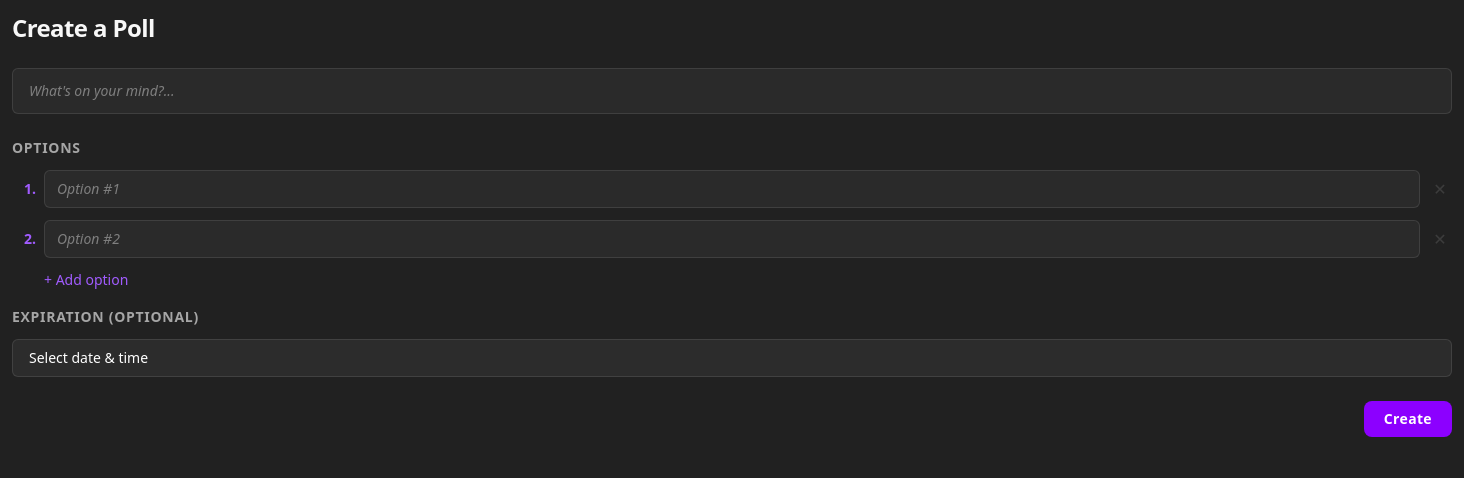
Test: CreatePollPage › displays validation messages inline on API 400 error
The image size is (1464, 478).
In the field named "poll question": (732, 91) [12,68,1452,114], type "Q"
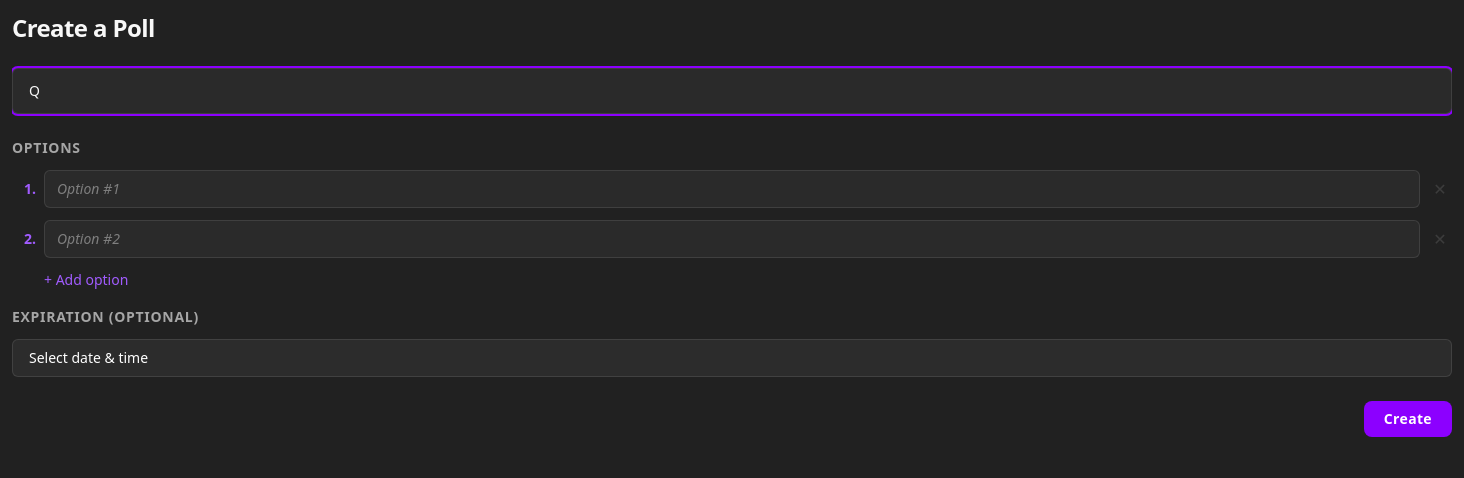
In the field named "option 1": (732, 189) [44,170,1420,208], type "A"
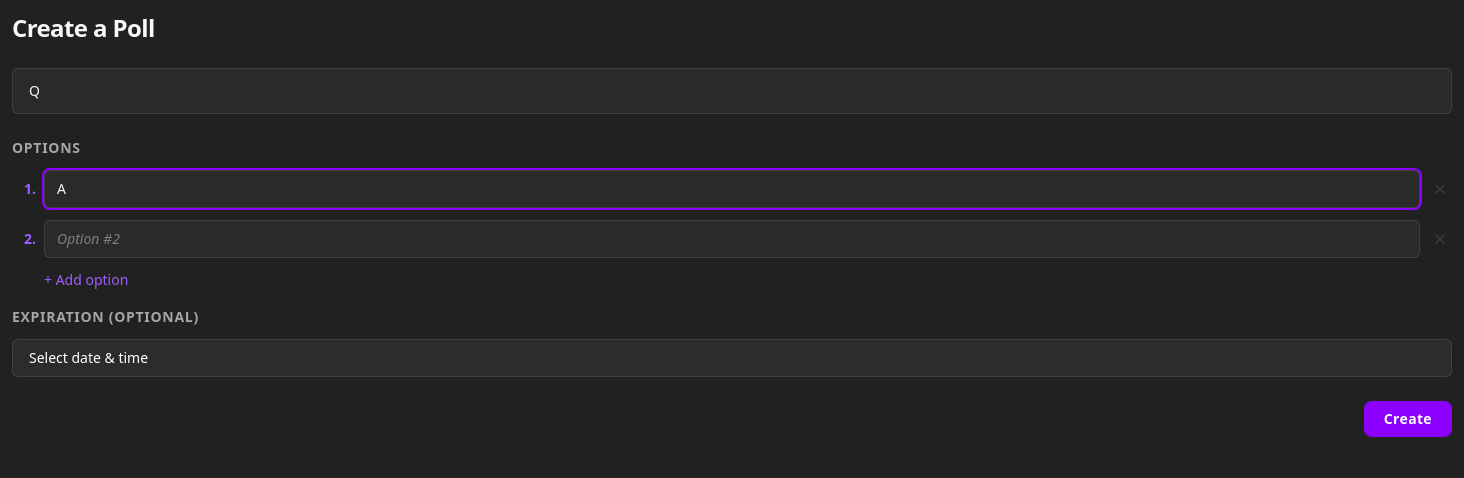
In the field named "option 2": (732, 239) [44,220,1420,258], type "B"
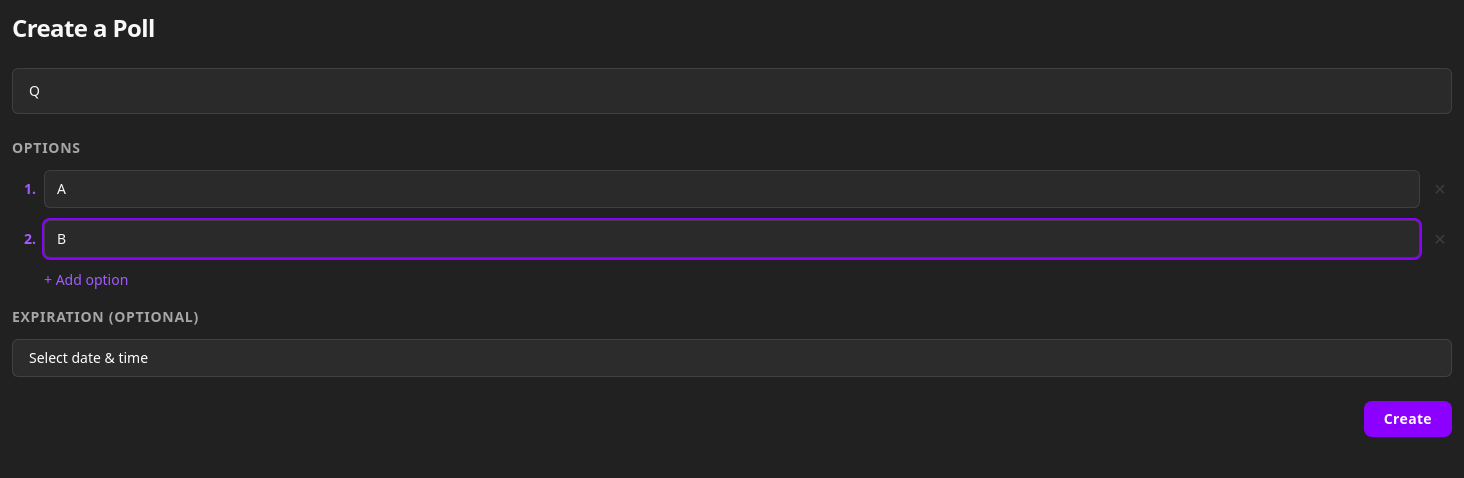
Click the button "Create": (1408, 419) [1364,401,1452,437]
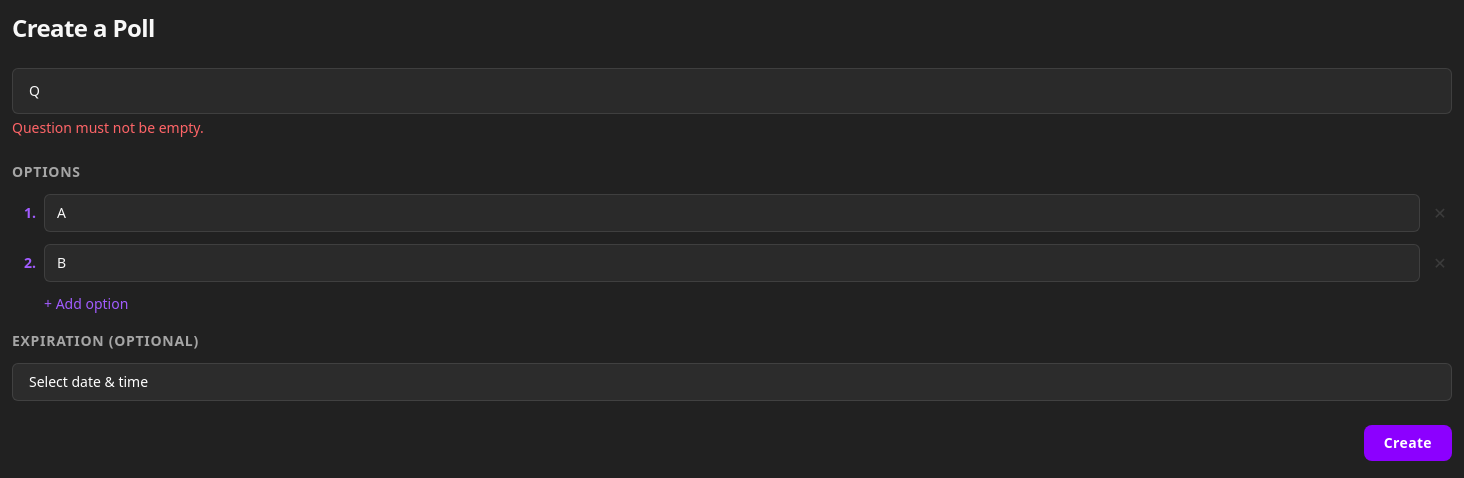
Expected: the text "Question must not be empty." is shown, [12,118,204,137]
